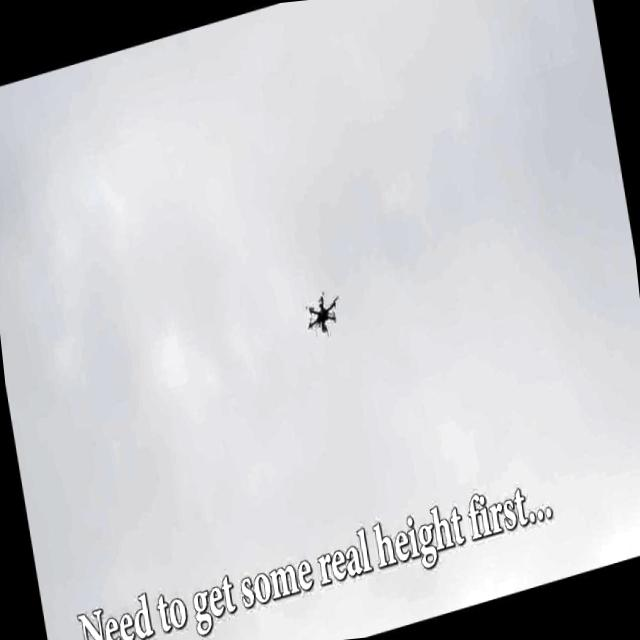drone: (299, 285, 344, 340)
